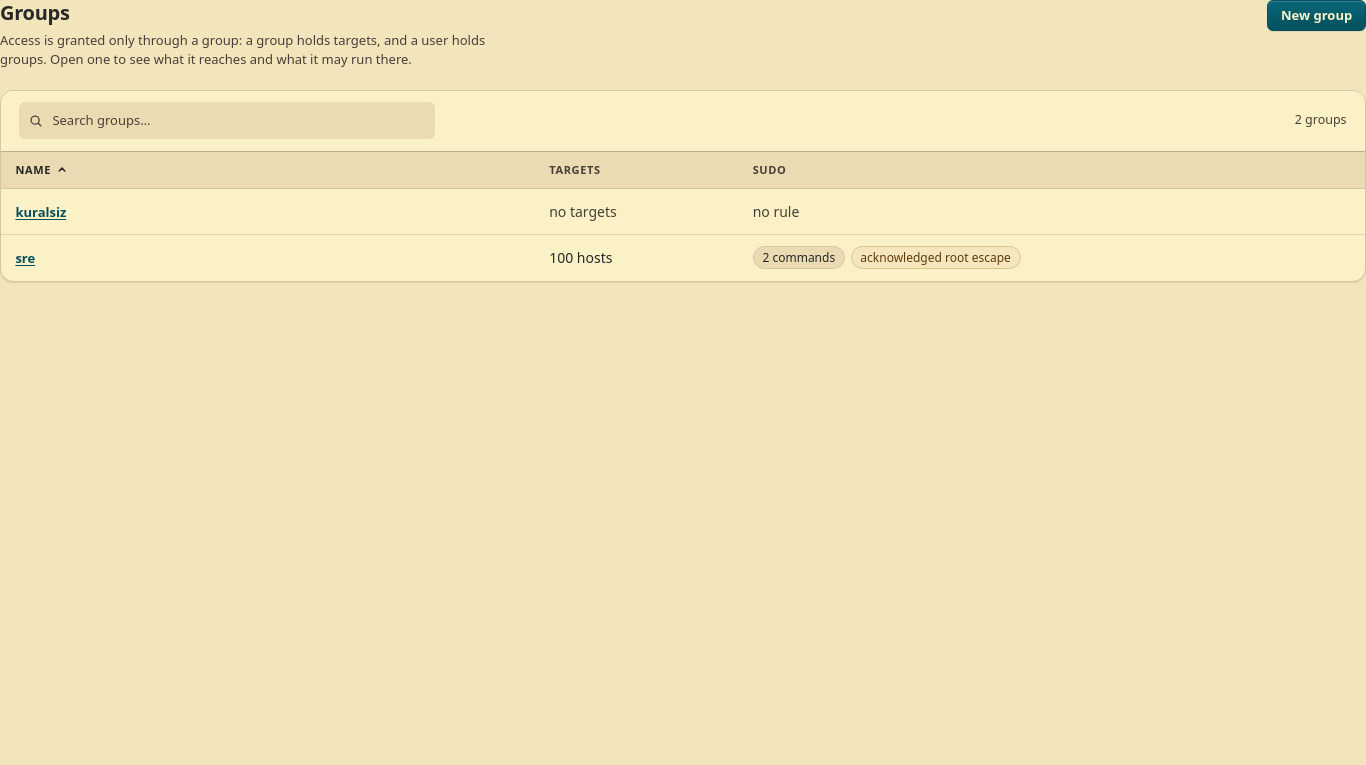
Test: ada tıklayınca rolün sayfasını açıyor
Click the button "sre".
click(127, 259)  # box [15,249,239,268]
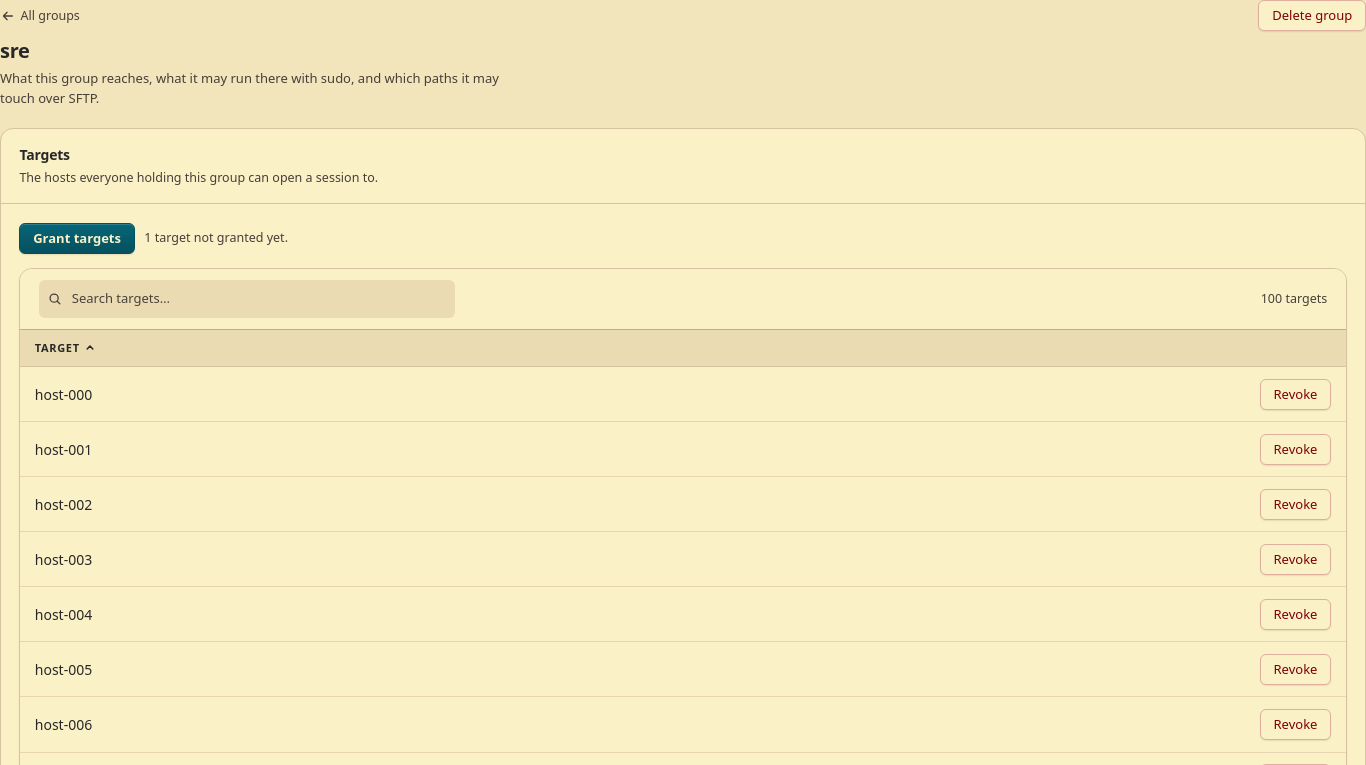
Check: the heading "Targets" is shown, box [19,145,70,164]
Check: the heading "sre" is shown, box [0,37,30,64]
Check: the button with aria-label "delete group sre" is shown, box [1258,0,1365,31]
Click the button "All groups".
click(40, 16)  # box [0,0,81,32]
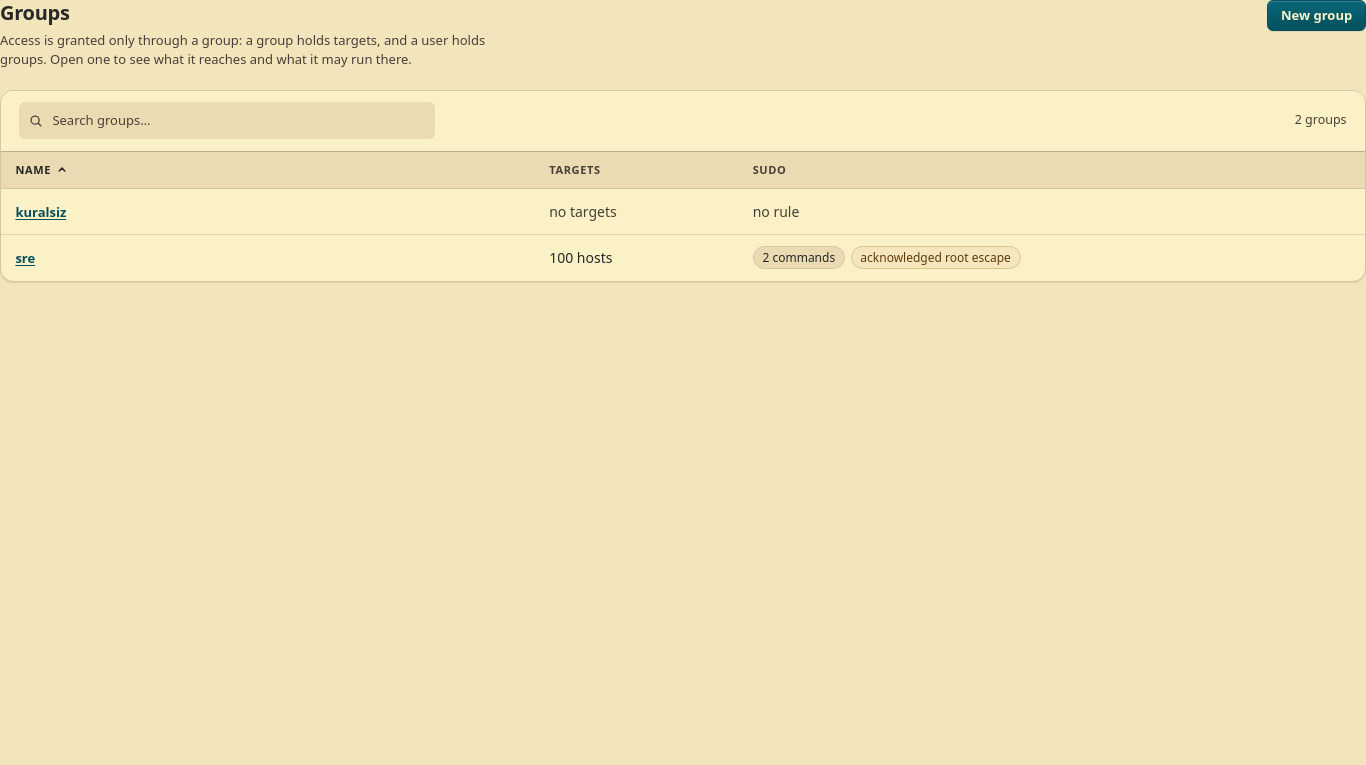
Check: the heading "Groups" is shown, box [0,0,70,26]
